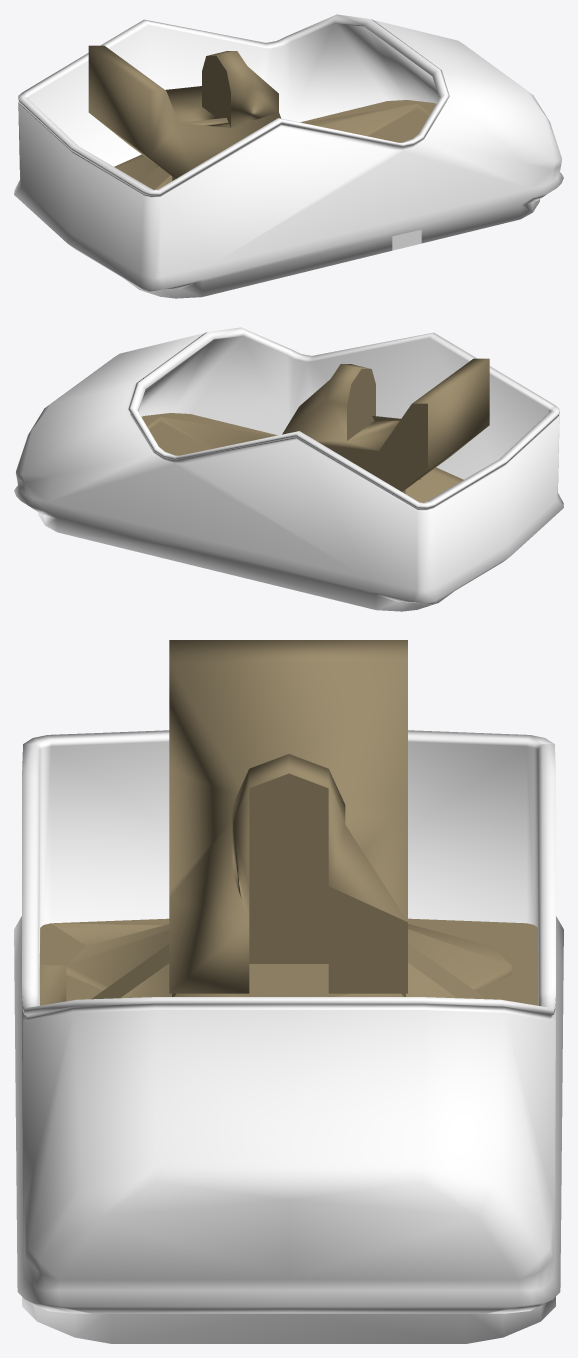
File: foot.dae
The picture shows the model from 3 angles, top to bottom: view 1: azimuth 30°, elevation 25°; view 2: azimuth 150°, elevation 25°; view 3: azimuth 270°, elevation 25°; orthographic projection. The views are drawn at different scales.
Parts seen in each view (by area): view 1: Cylinder_001; view 2: Cylinder_001; view 3: Cylinder_001.
Boxes of the visible parts, x1,y1,x2,y2 form: Cylinder_001: [14, 14, 563, 298]; Cylinder_001: [14, 327, 563, 611]; Cylinder_001: [14, 640, 563, 1343].
Size of the model in its own units: 0.2782 by 0.1569 by 0.1109.
1 material, 1 textured.
